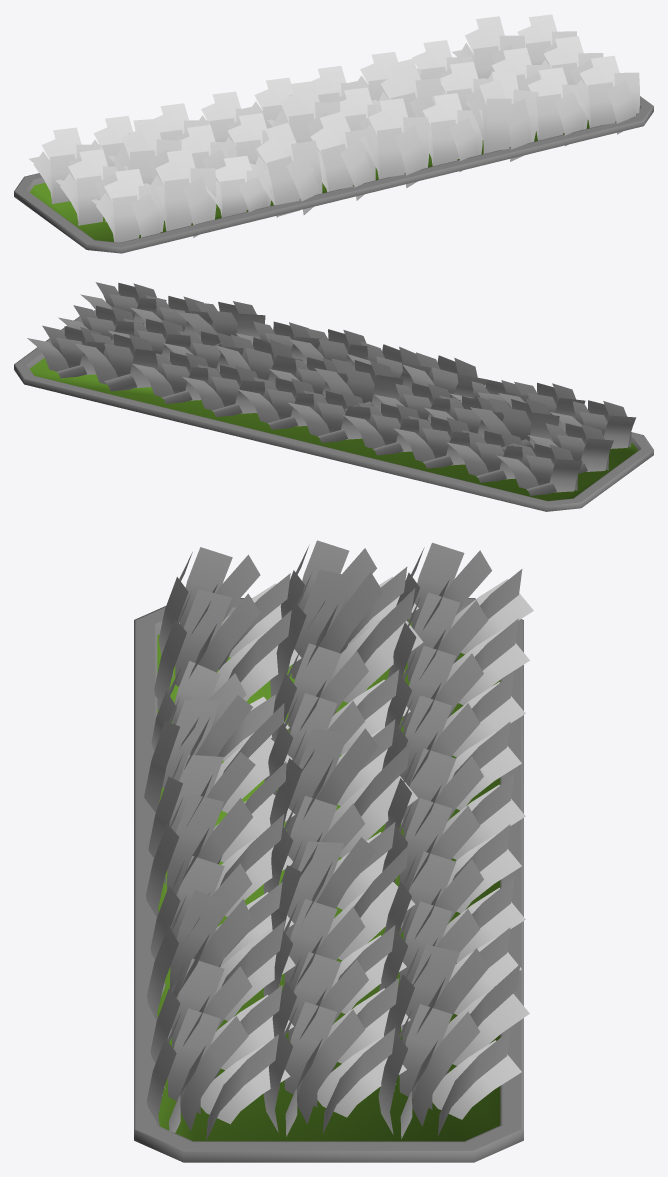
File: Grass_Bush_3.fbx
3 views of the same model, one above another, from view 1: azimuth 30°, elevation 25°; view 2: azimuth 150°, elevation 25°; view 3: azimuth 270°, elevation 25° (orthographic). The views are drawn at different scales.
Visible parts, largest first — view 1: Grass_Bush_3; view 2: Grass_Bush_3; view 3: Grass_Bush_3.
Part boxes in pixels (x1,y1,x2,y2): Grass_Bush_3: (14,14,653,253); Grass_Bush_3: (14,282,653,511); Grass_Bush_3: (134,540,533,1162).
Bounding box in the file's own units: 1680 × 204 × 513.
